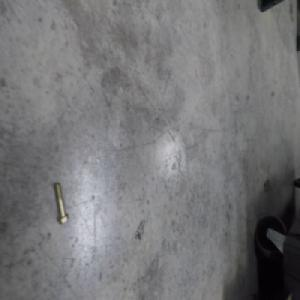Bolt: (53, 180, 69, 225)
